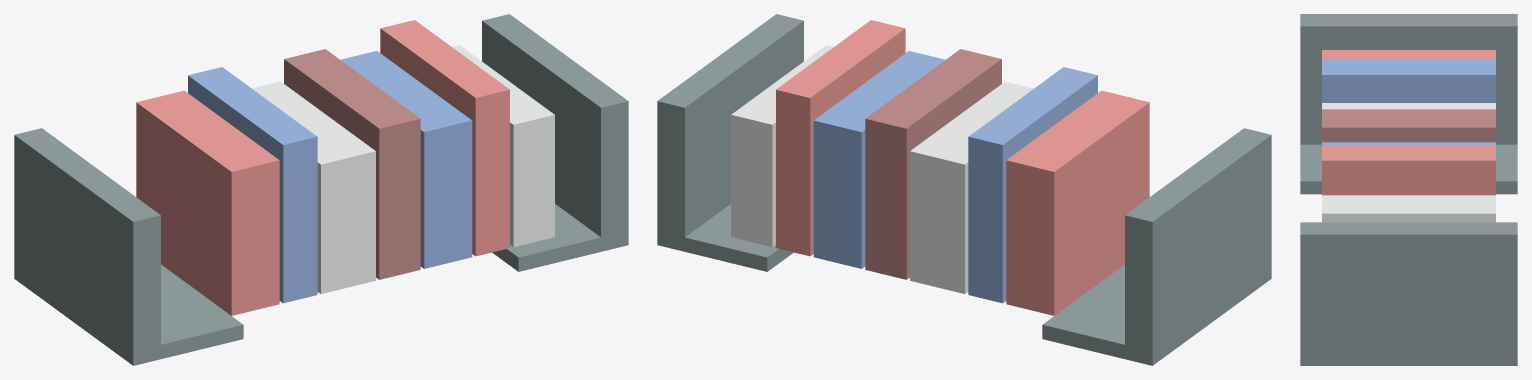
The model's file is bookends.glb.
The picture shows the model from 3 angles, left to right: view 1: azimuth 30°, elevation 25°; view 2: azimuth 150°, elevation 25°; view 3: azimuth 270°, elevation 25°; orthographic projection. The views are drawn at different scales.
Parts seen in each view (by area): view 1: bookends; view 2: bookends; view 3: bookends.
Part boxes in pixels (bbox=[...]): bookends: bbox=[14, 14, 628, 365]; bookends: bbox=[657, 14, 1271, 365]; bookends: bbox=[1300, 14, 1517, 365].
Bounding box in the file's own units: 0.36 × 0.12 × 0.15.
